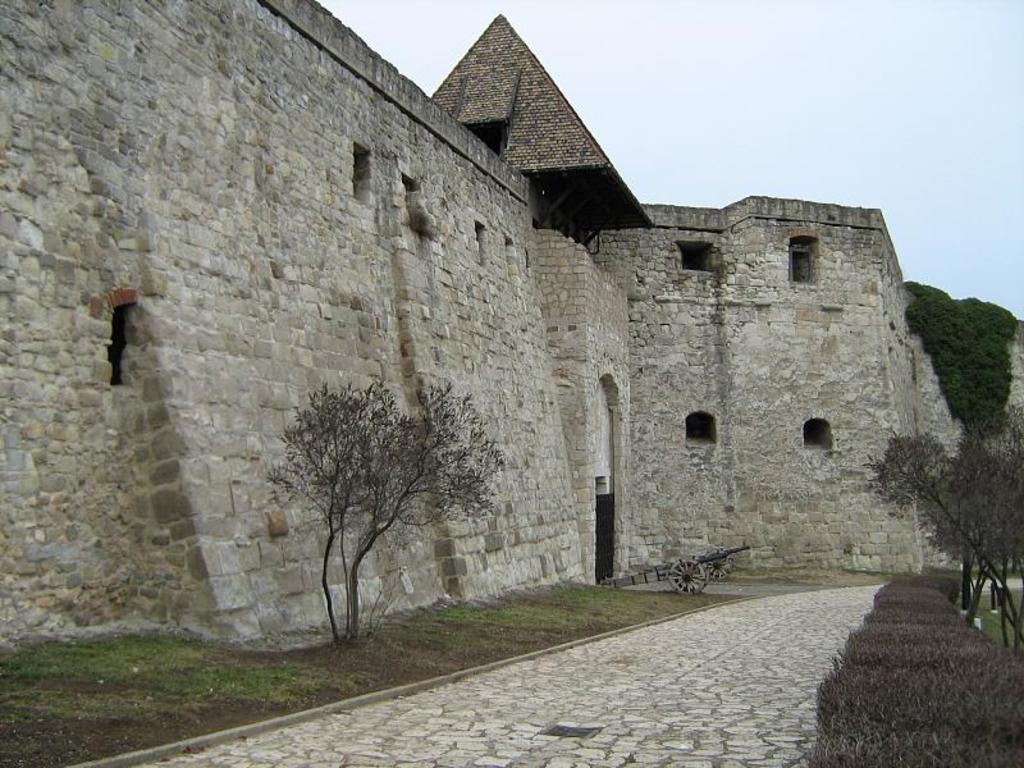Tree: (266, 387, 513, 650), (874, 387, 1018, 596), (906, 276, 1022, 465)
